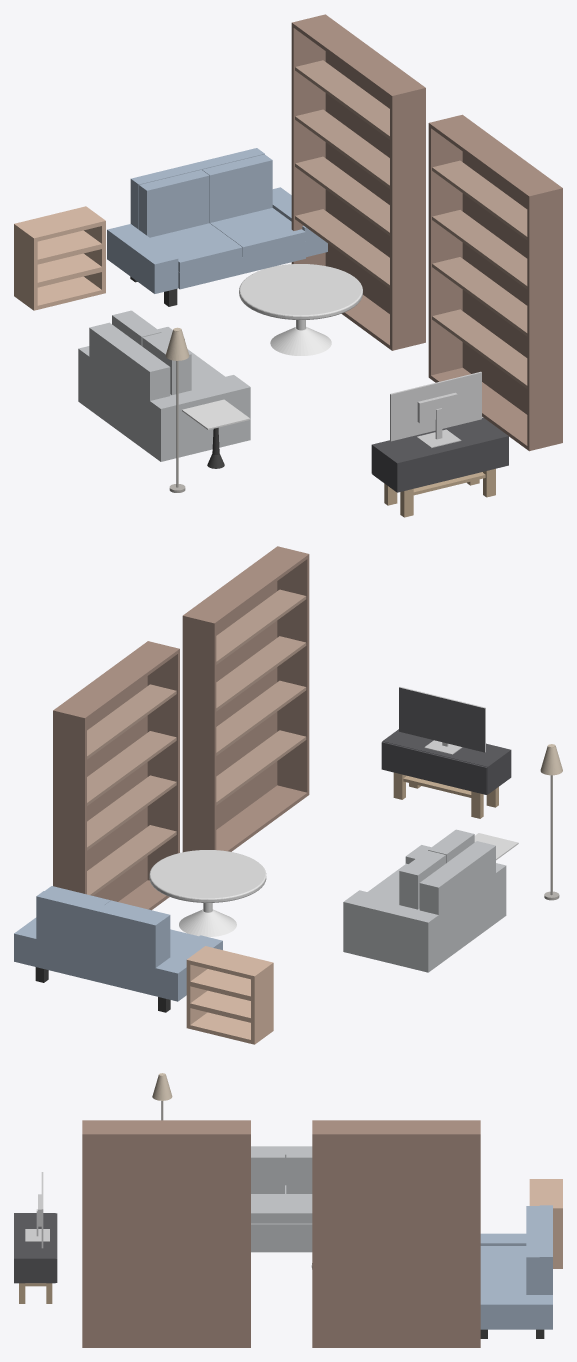
Rendered from agent_scene.glb.
3 views of the same model, one above another, from view 1: azimuth 30°, elevation 25°; view 2: azimuth 150°, elevation 25°; view 3: azimuth 270°, elevation 25° (orthographic). The views are drawn at different scales.
Parts seen in each view (by area): view 1: bookcase_L, bookcase_R, round_table, gray_sofa_back, gray_sofa_arm_front, blue_sofa_back_cush1, blue_sofa_back_cush2, tv_screen, blue_sofa_arm_W, tv_stand_top, blue_sofa_seat_cush2, blue_sofa_seat_cush1 (+17 smaller); view 2: bookcase_L, bookcase_R, blue_sofa_back, round_table, gray_sofa_back, gray_sofa_arm_rear, tv_screen, blue_sofa_arm_W, cube_shelf_side_L, tv_stand_drawer2, tv_stand_top, tv_stand_drawer1 (+10 smaller); view 3: bookcase_L, bookcase_R, blue_sofa_arm_E, gray_sofa_seat_base, tv_stand_top, gray_sofa_back_cush1, blue_sofa_back, blue_sofa_seat_cush1, gray_sofa_back_cush2, blue_sofa_seat_cush2, gray_sofa_seat_cush1, blue_sofa_back_cush2 (+7 smaller).
Part boxes in pixels (x1=…): bookcase_L: x1=428, y1=114, x2=562, y2=451; bookcase_R: x1=291, y1=14, x2=425, y2=350; round_table: x1=239, y1=264, x2=362, y2=355; gray_sofa_back: x1=89, y1=322, x2=170, y2=453; gray_sofa_arm_front: x1=150, y1=375, x2=250, y2=461; blue_sofa_back_cush1: x1=139, y1=169, x2=209, y2=237; blue_sofa_back_cush2: x1=202, y1=154, x2=272, y2=222; tv_screen: x1=390, y1=371, x2=481, y2=441; blue_sofa_arm_W: x1=107, y1=224, x2=178, y2=293; tv_stand_top: x1=372, y1=418, x2=508, y2=467; blue_sofa_seat_cush2: x1=210, y1=208, x2=305, y2=256; blue_sofa_seat_cush1: x1=150, y1=223, x2=242, y2=272; bookcase_L: x1=182, y1=546, x2=309, y2=852; bookcase_R: x1=53, y1=641, x2=179, y2=910; blue_sofa_back: x1=36, y1=891, x2=163, y2=995; round_table: x1=149, y1=850, x2=266, y2=936; gray_sofa_back: x1=419, y1=841, x2=495, y2=964; gray_sofa_arm_rear: x1=343, y1=890, x2=438, y2=972; tv_screen: x1=399, y1=687, x2=485, y2=752; blue_sofa_arm_W: x1=155, y1=935, x2=222, y2=1001; cube_shelf_side_L: x1=251, y1=962, x2=273, y2=1044; tv_stand_drawer2: x1=381, y1=741, x2=487, y2=781; tv_stand_top: x1=382, y1=729, x2=511, y2=770; tv_stand_drawer1: x1=381, y1=756, x2=487, y2=794; bookcase_L: x1=82, y1=1120, x2=250, y2=1347; bookcase_R: x1=312, y1=1120, x2=480, y2=1347; blue_sofa_arm_E: x1=480, y1=1295, x2=552, y2=1329; gray_sofa_seat_base: x1=251, y1=1223, x2=312, y2=1252; tv_stand_top: x1=14, y1=1213, x2=55, y2=1262; gray_sofa_back_cush1: x1=251, y1=1149, x2=284, y2=1193; blue_sofa_back: x1=539, y1=1205, x2=552, y2=1294; blue_sofa_seat_cush1: x1=480, y1=1246, x2=526, y2=1271; gray_sofa_back_cush2: x1=286, y1=1149, x2=312, y2=1193; blue_sofa_seat_cush2: x1=480, y1=1271, x2=526, y2=1294; gray_sofa_seat_cush1: x1=251, y1=1185, x2=285, y2=1223; blue_sofa_back_cush2: x1=526, y1=1231, x2=539, y2=1294.
Size of the model in its own units: 3.4 by 2.38 by 5.54.
